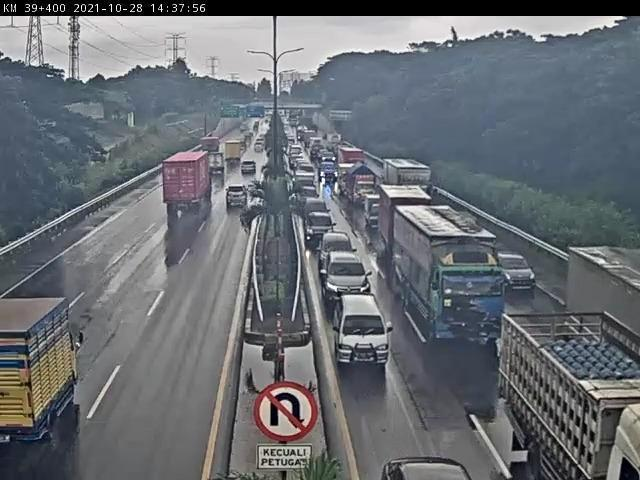car: (331, 293, 401, 371), (319, 247, 376, 300), (495, 249, 541, 295), (311, 233, 353, 258), (309, 212, 342, 240), (224, 180, 247, 211), (243, 159, 259, 177)
truck: (494, 306, 640, 480), (1, 270, 93, 480), (399, 202, 508, 352), (163, 150, 212, 221), (227, 139, 245, 164), (203, 134, 224, 153)
